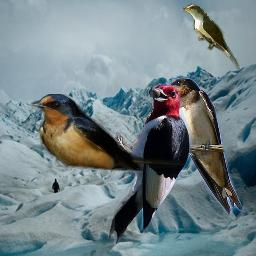Cuckoo: (183, 3, 241, 70)
Swallow: (31, 94, 186, 171), (160, 77, 242, 214)
Woodpecker: (102, 74, 192, 250)
